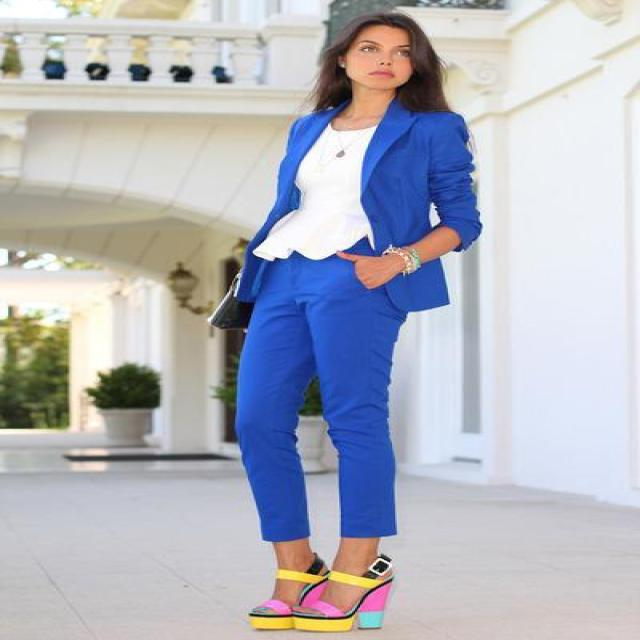jacket: (238, 90, 478, 310)
pants: (232, 250, 418, 540)
shirt: (253, 125, 376, 260)
shoe: (250, 565, 394, 639)
